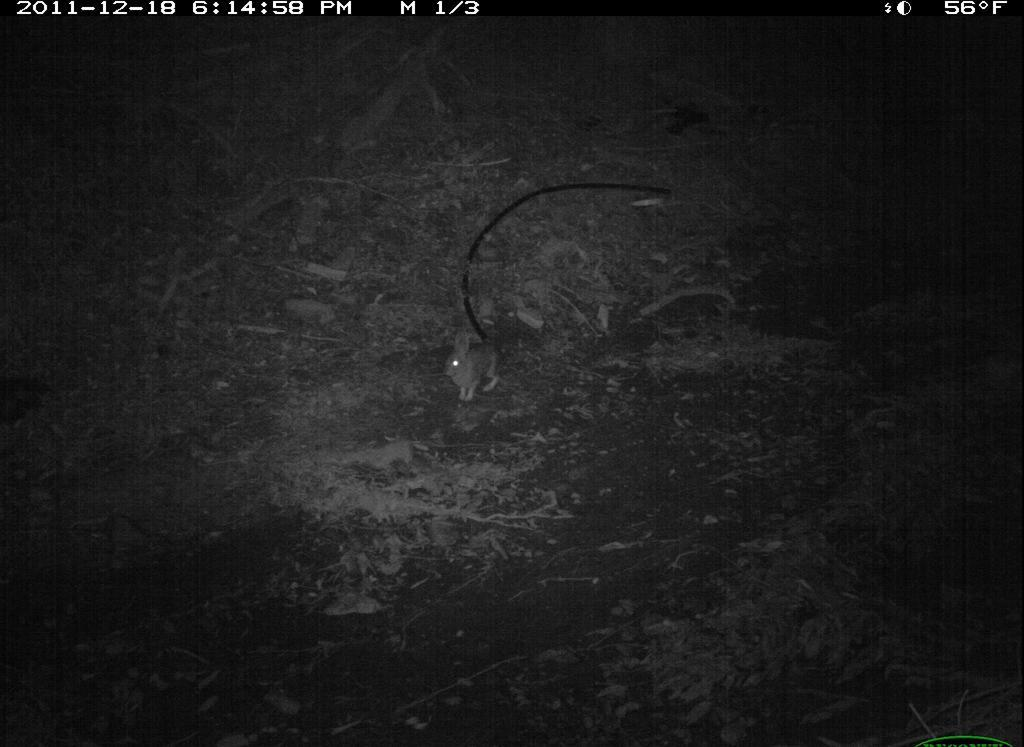rabbit: (440, 328, 507, 410)
